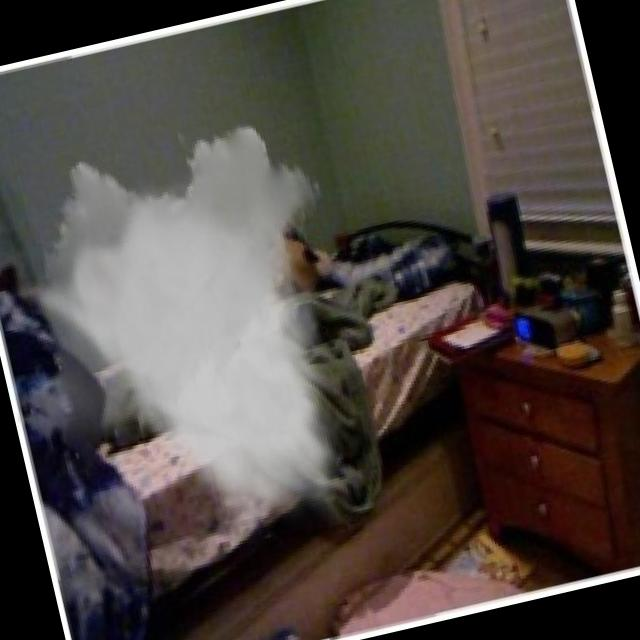Smoke: (85, 141, 312, 425)
